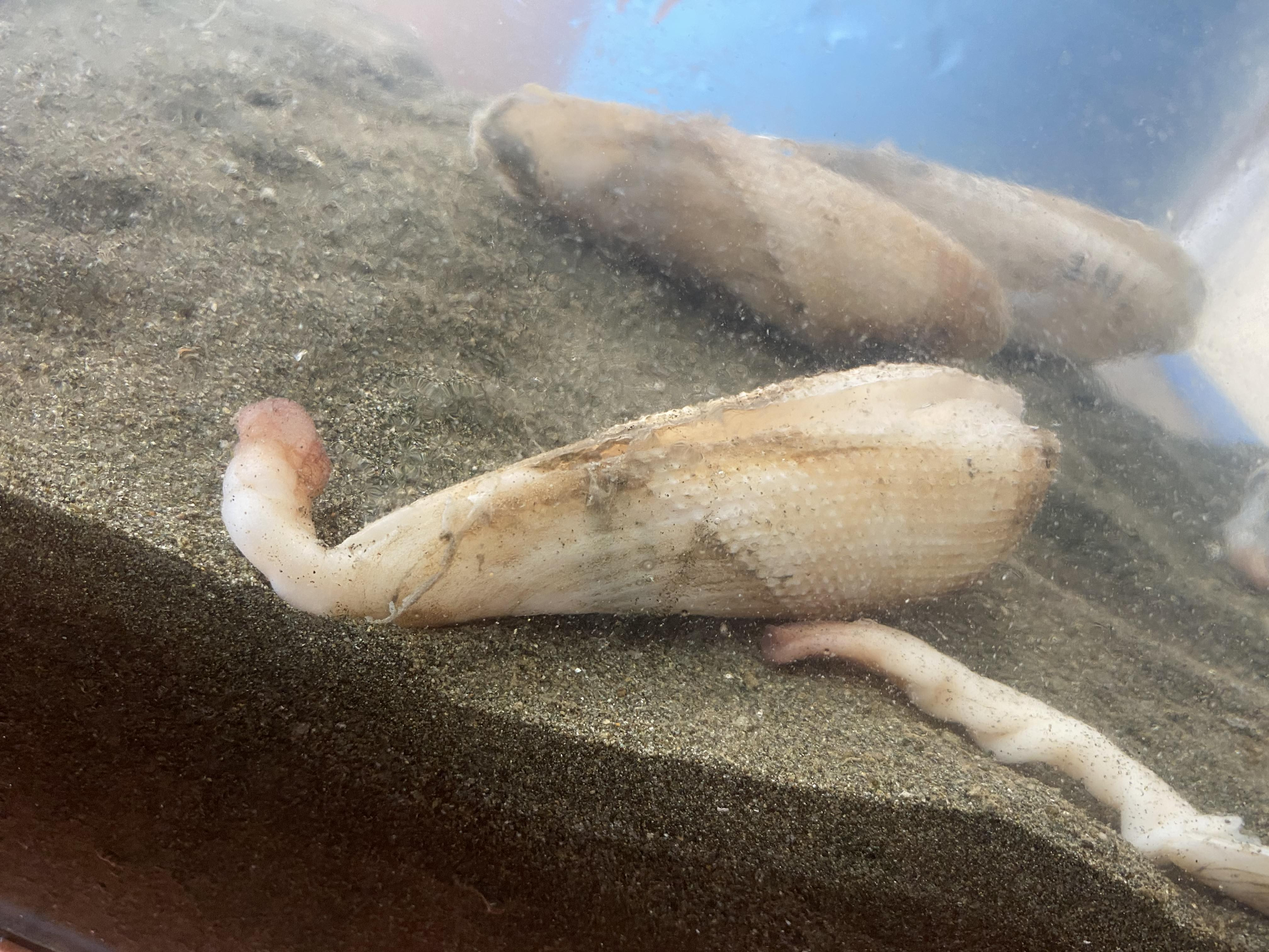At risk: (223, 364, 1058, 626), (472, 86, 1203, 361), (763, 620, 1269, 911)
